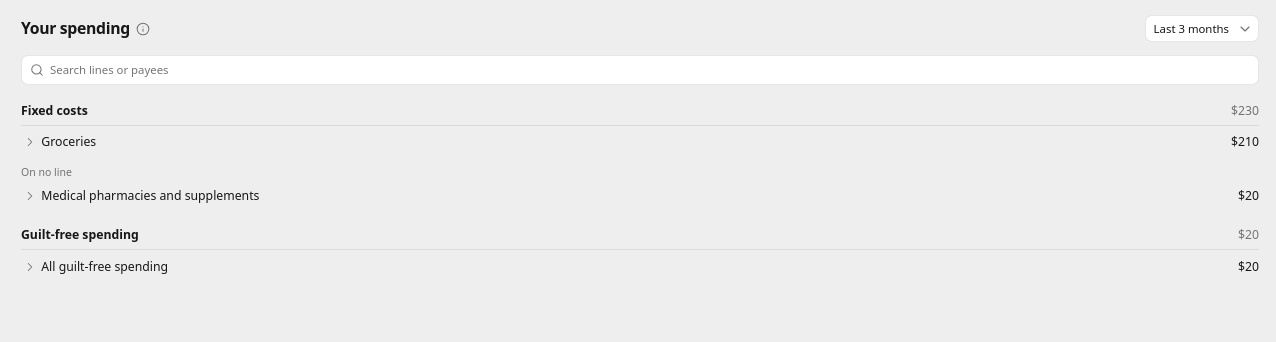
Test case: spending explorer › opens a category to show its payees
The width and height of the screenshot is (1276, 342).
Click the button named "Show Groceries payees".
click(27, 142)  # box [17,133,36,152]
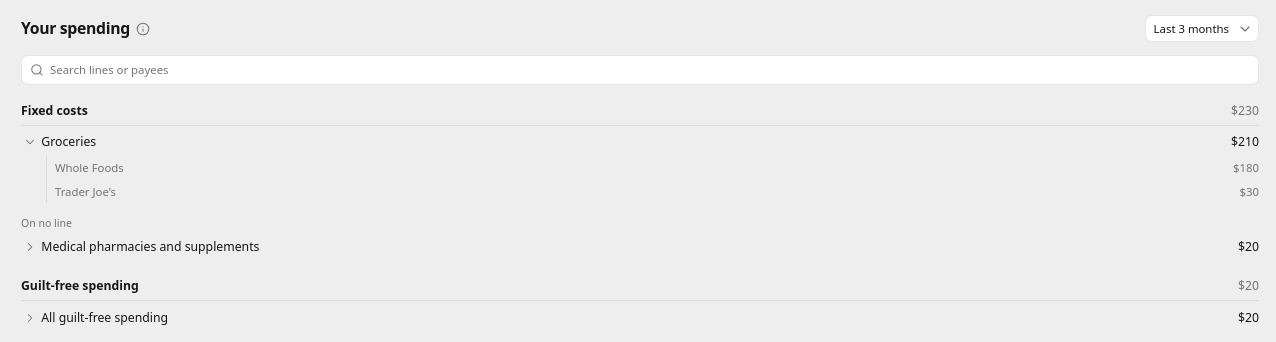
Result: the list named "Groceries payees" reads "Whole Foods $180 Trader Joe’s $30" at [46,156,1259,203]
